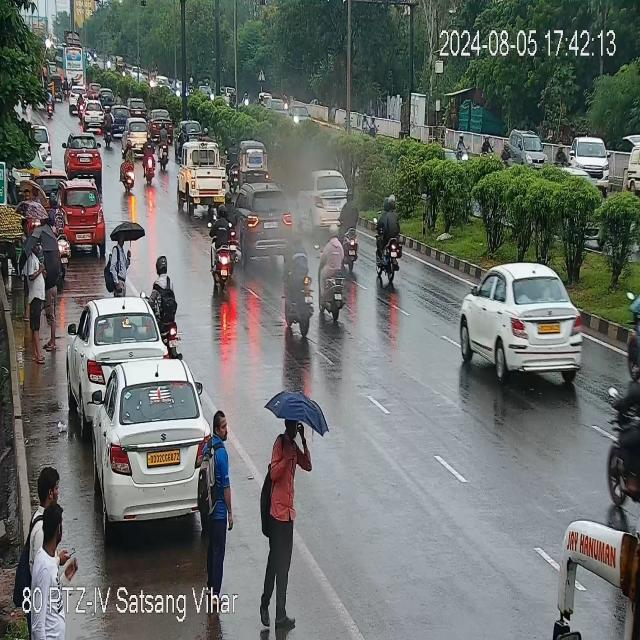2-wheelers: (600, 358, 640, 528), (371, 195, 409, 283), (204, 201, 244, 284), (152, 256, 185, 354), (285, 231, 311, 336), (319, 219, 343, 322), (336, 198, 367, 271), (140, 140, 159, 182), (120, 140, 134, 193), (157, 123, 172, 165), (104, 106, 112, 145), (45, 90, 55, 118), (77, 92, 84, 119)
auto: (238, 142, 272, 180)
bus: (549, 444, 638, 640), (61, 37, 87, 86)
car: (85, 356, 213, 524), (462, 259, 586, 377), (68, 295, 164, 401), (241, 182, 293, 260), (177, 140, 229, 212), (296, 168, 343, 229), (61, 187, 105, 250), (65, 134, 106, 177), (123, 119, 148, 149), (176, 118, 204, 144), (149, 108, 173, 134), (84, 100, 102, 129), (112, 105, 128, 131), (128, 99, 149, 117), (70, 88, 86, 109), (99, 87, 114, 104), (88, 84, 102, 99)
pedestrian: (253, 428, 316, 634), (201, 408, 236, 595), (27, 469, 66, 544), (36, 506, 69, 582), (28, 238, 46, 370), (106, 235, 129, 296), (21, 218, 28, 319), (46, 289, 56, 352), (32, 187, 42, 206), (22, 190, 31, 202)
